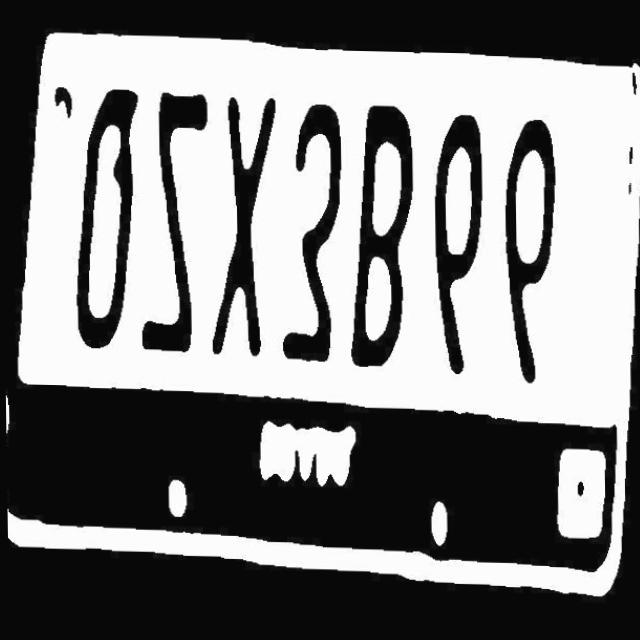3: (281, 96, 347, 362)
6: (493, 112, 561, 381), (426, 109, 489, 374)
b: (348, 99, 419, 369)
q: (69, 86, 140, 351)
x: (209, 93, 281, 357)
z: (134, 87, 210, 357)
